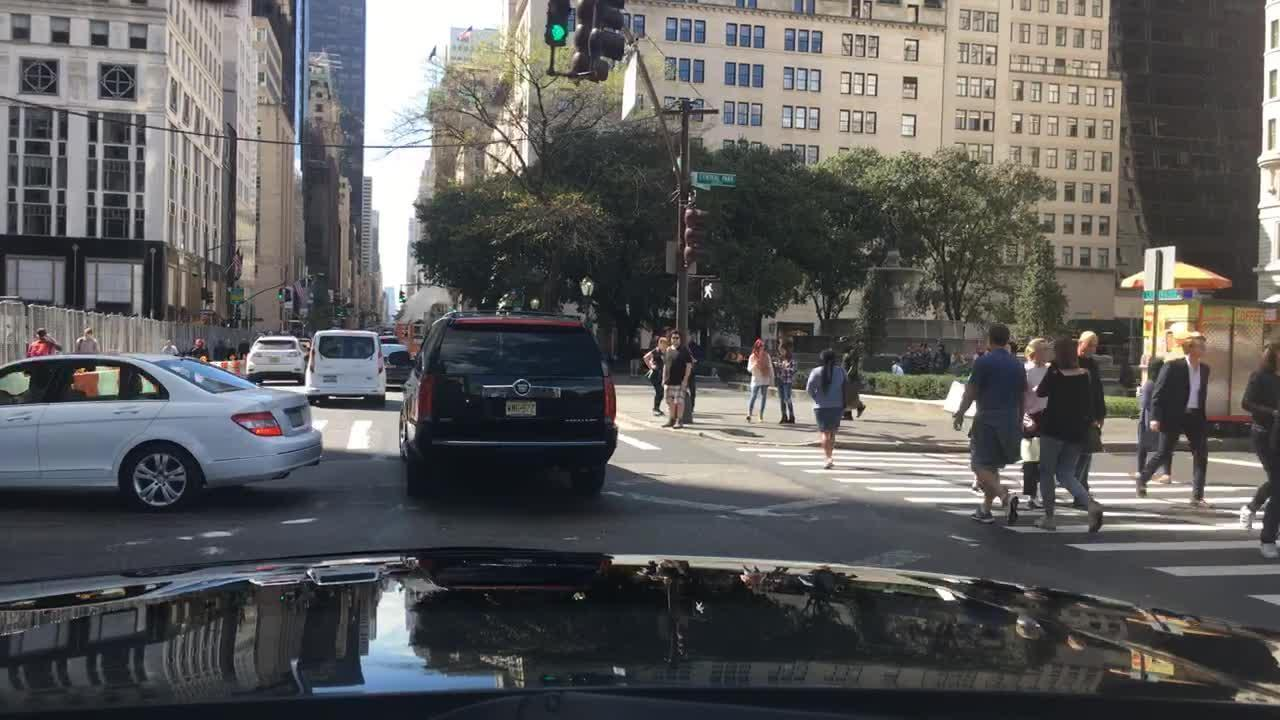cadillac: (515, 377, 531, 399)
